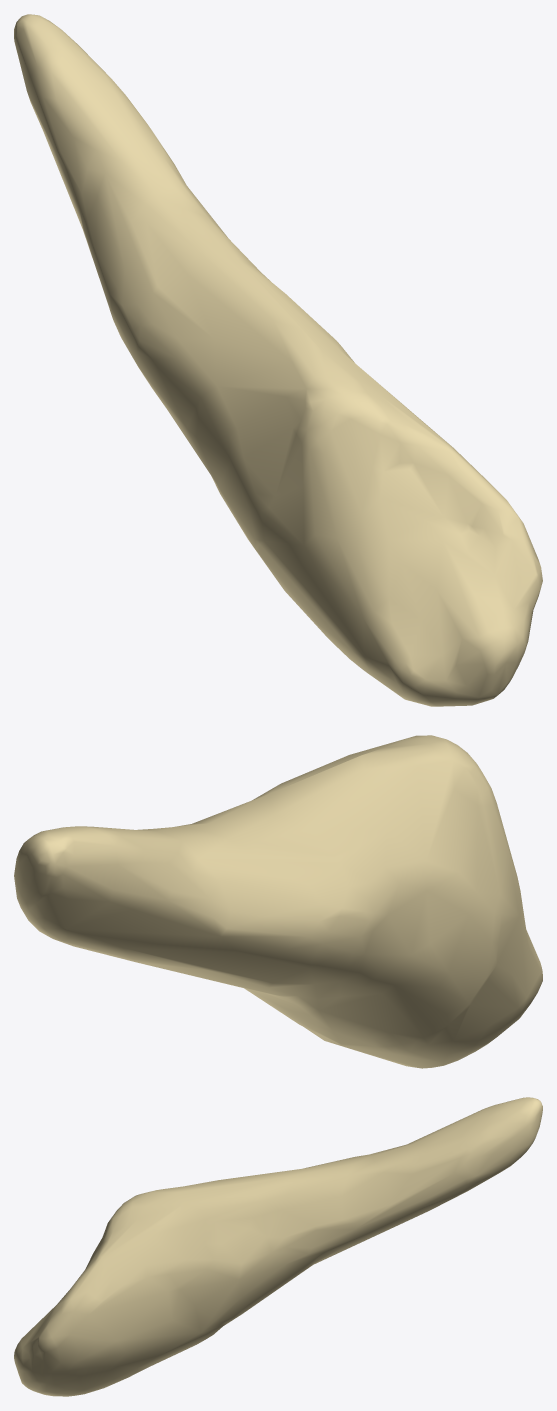
3 renders of one model, top to bottom at view 1: azimuth 30°, elevation 25°; view 2: azimuth 150°, elevation 25°; view 3: azimuth 270°, elevation 25°, orthographic. The views are drawn at different scales.
Parts seen in each view (by area): view 1: 左侧下颌尖牙; view 2: 左侧下颌尖牙; view 3: 左侧下颌尖牙.
Boxes of the visible parts, <box> form: 左侧下颌尖牙: <box>14,14,542,706</box>; 左侧下颌尖牙: <box>14,735,542,1068</box>; 左侧下颌尖牙: <box>14,1097,542,1396</box>.
Size of the model in its own units: 0.0114 by 0.0224 by 0.0386.
